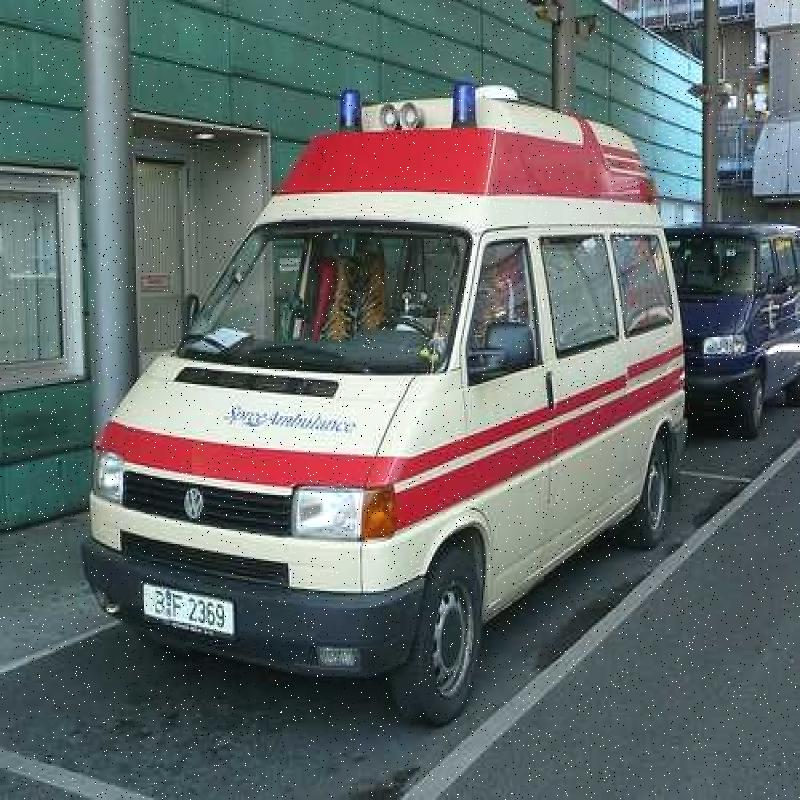AmbulanceSiren: (319, 84, 511, 149)
